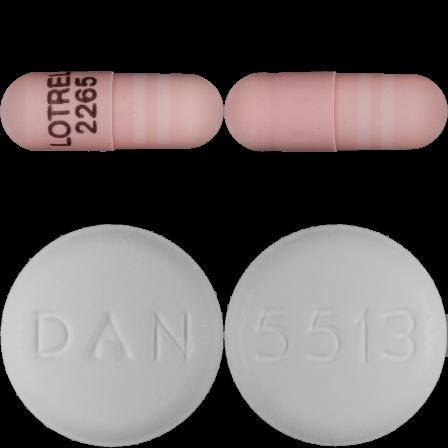55289-039: (0, 0, 224, 224)
